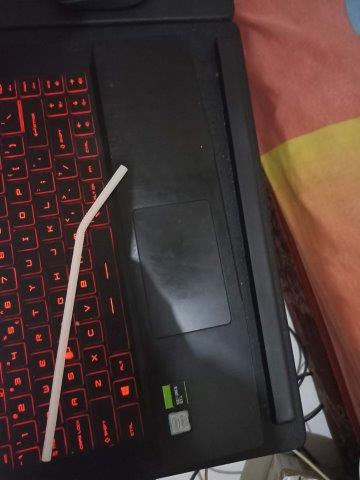sedotan: (42, 165, 127, 461)
